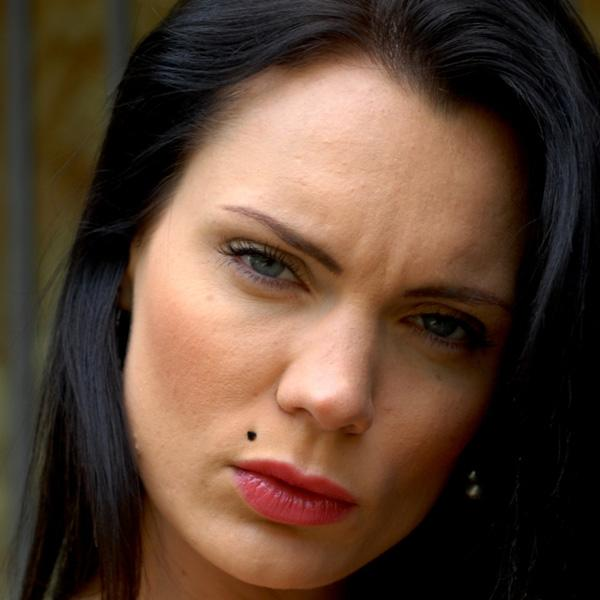Eyes: (214, 225, 317, 302), (388, 294, 493, 361)
